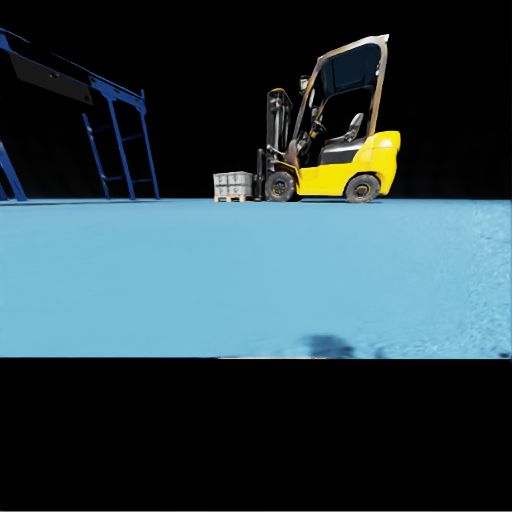transportation_area: (228, 184, 255, 194)
